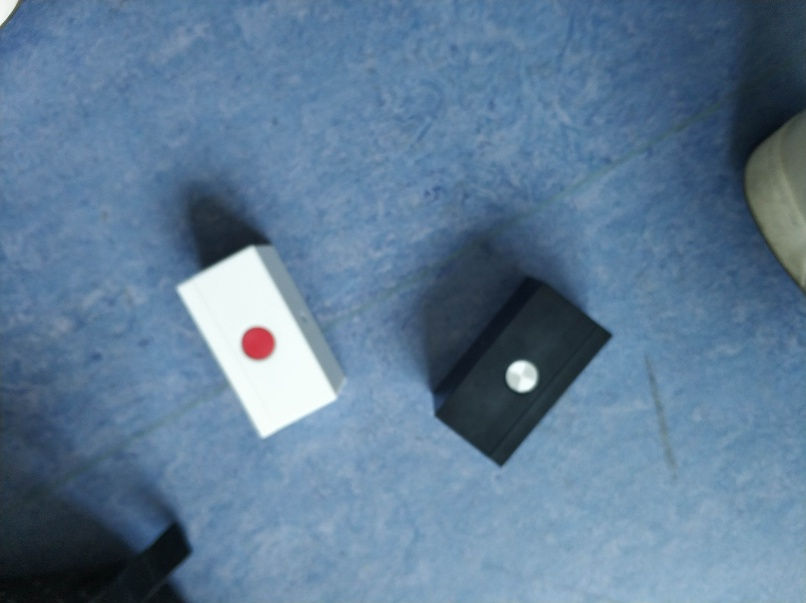black+black+silver: (431, 273, 613, 471)
white+white+red: (169, 242, 349, 442)
